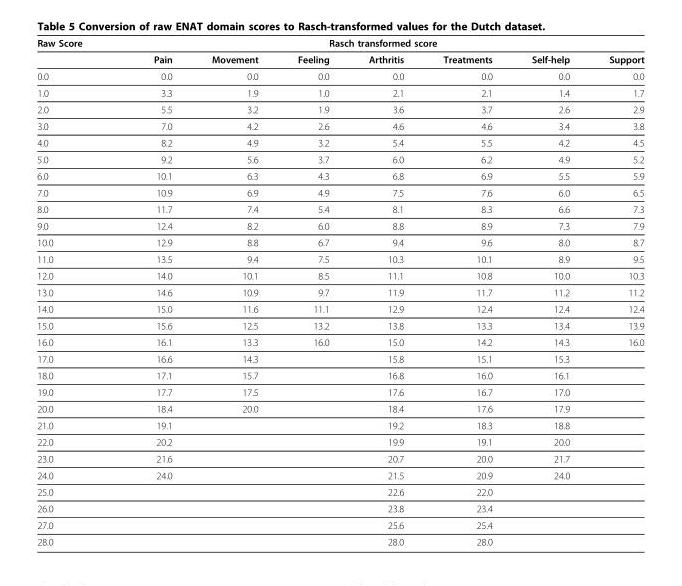table: (36, 36, 643, 547)
table column: (422, 36, 511, 547), (191, 36, 277, 547), (36, 36, 117, 547), (511, 36, 588, 547), (117, 36, 191, 547), (348, 36, 422, 547), (277, 36, 348, 547), (588, 36, 643, 547)
table column header: (36, 36, 643, 67)
table row: (36, 50, 643, 67), (36, 67, 643, 84), (36, 100, 643, 117), (36, 117, 643, 134), (36, 150, 643, 167), (36, 183, 643, 200), (36, 200, 643, 217), (36, 233, 643, 250), (36, 250, 643, 267), (36, 283, 643, 300), (36, 300, 643, 317), (36, 333, 643, 350), (36, 366, 643, 383), (36, 383, 643, 400), (36, 416, 643, 433), (36, 433, 643, 450), (36, 466, 643, 483), (36, 499, 643, 516), (36, 516, 643, 533), (36, 84, 643, 100), (36, 134, 643, 150), (36, 167, 643, 183), (36, 217, 643, 233), (36, 267, 643, 283), (36, 317, 643, 333), (36, 350, 643, 366), (36, 400, 643, 416), (36, 450, 643, 466), (36, 483, 643, 499), (36, 36, 643, 50), (36, 533, 643, 547)
table spanning cell: (117, 36, 643, 50), (36, 36, 117, 67)
